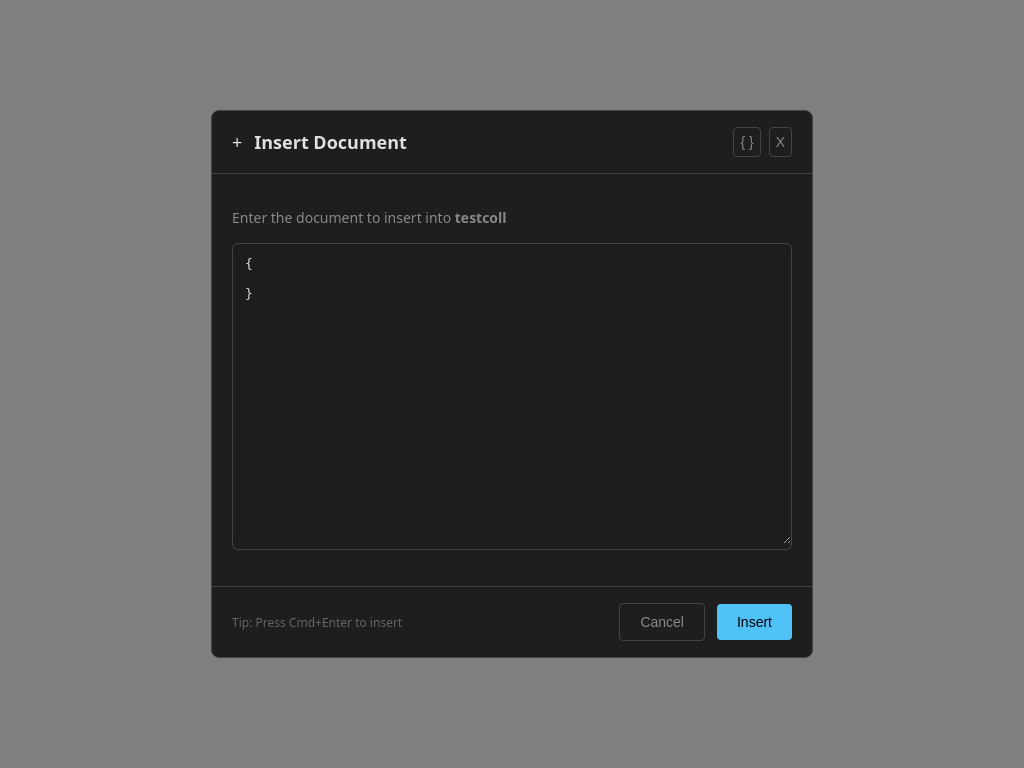
it: InsertDocumentDialog › form submission › shows error when document is not an object
The image size is (1024, 768).
Note: Enter a JSON array instead of object
Replace the text in the text box with test id "json-editor-input" with "[1, 2, 3]" at (512, 394), box [233, 244, 791, 544]
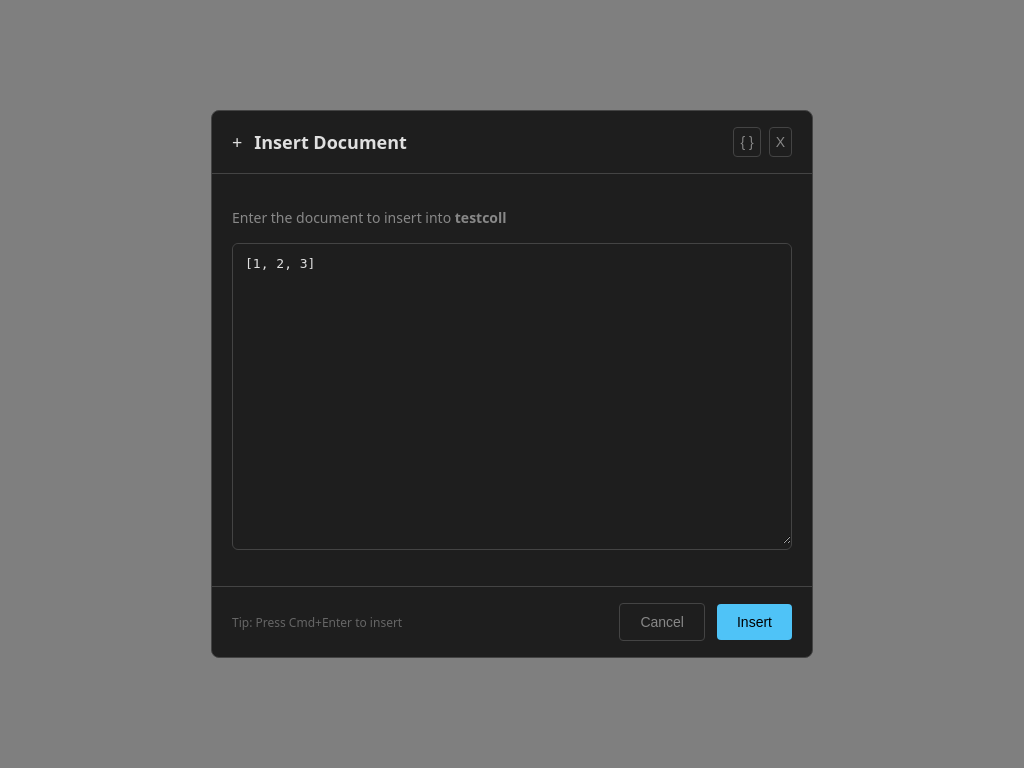
Note: Click insert button
Click the button with test id "insert-button" at (754, 622), box [717, 604, 792, 640]
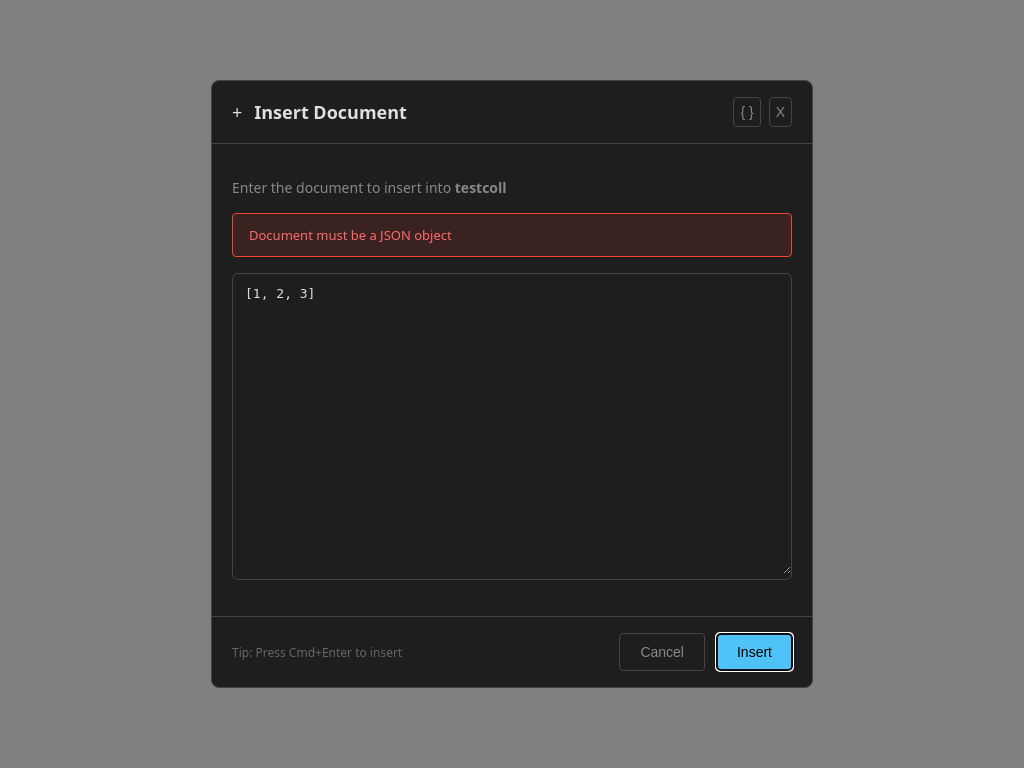
Check: the message with test id "insert-error" reads "Document must be a JSON object", box [249, 226, 452, 244]
